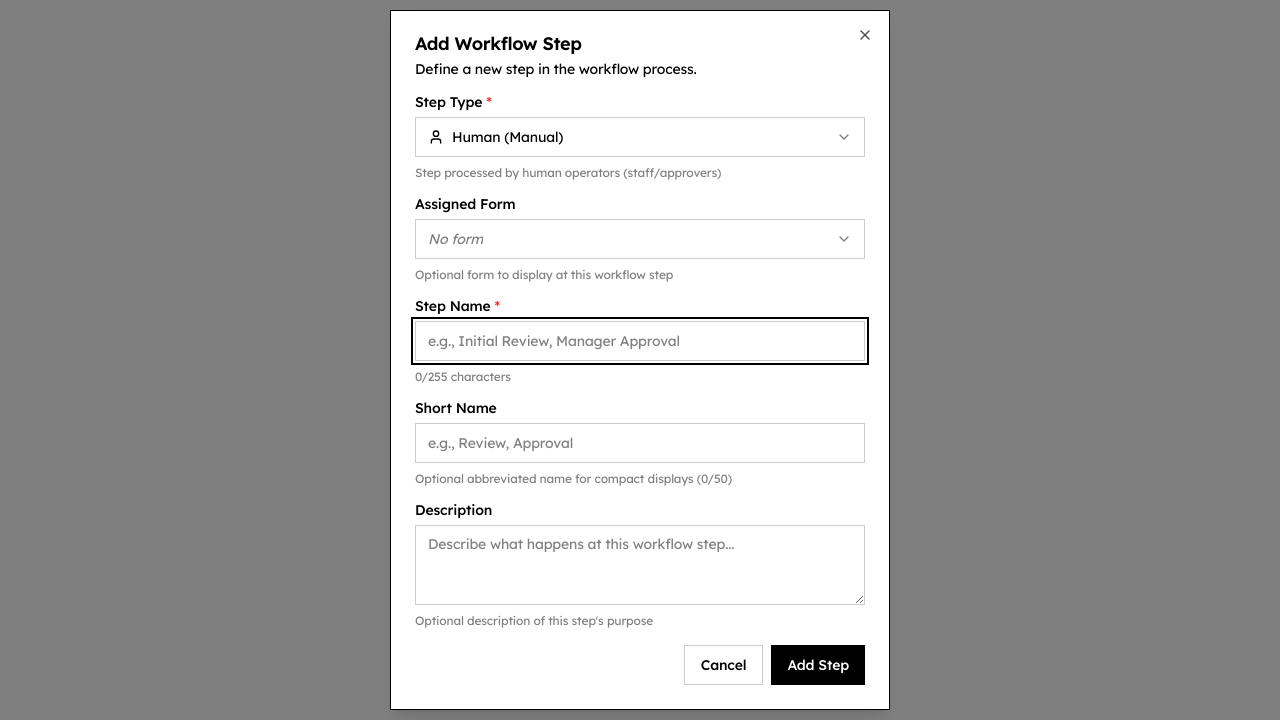
Scenario: CreateRoleDialog › Character Counter › updates character count as user types
Type "My Test Step" into the field labelled "Step Name *" at (640, 341), box x1=415 y1=321 x2=865 y2=361
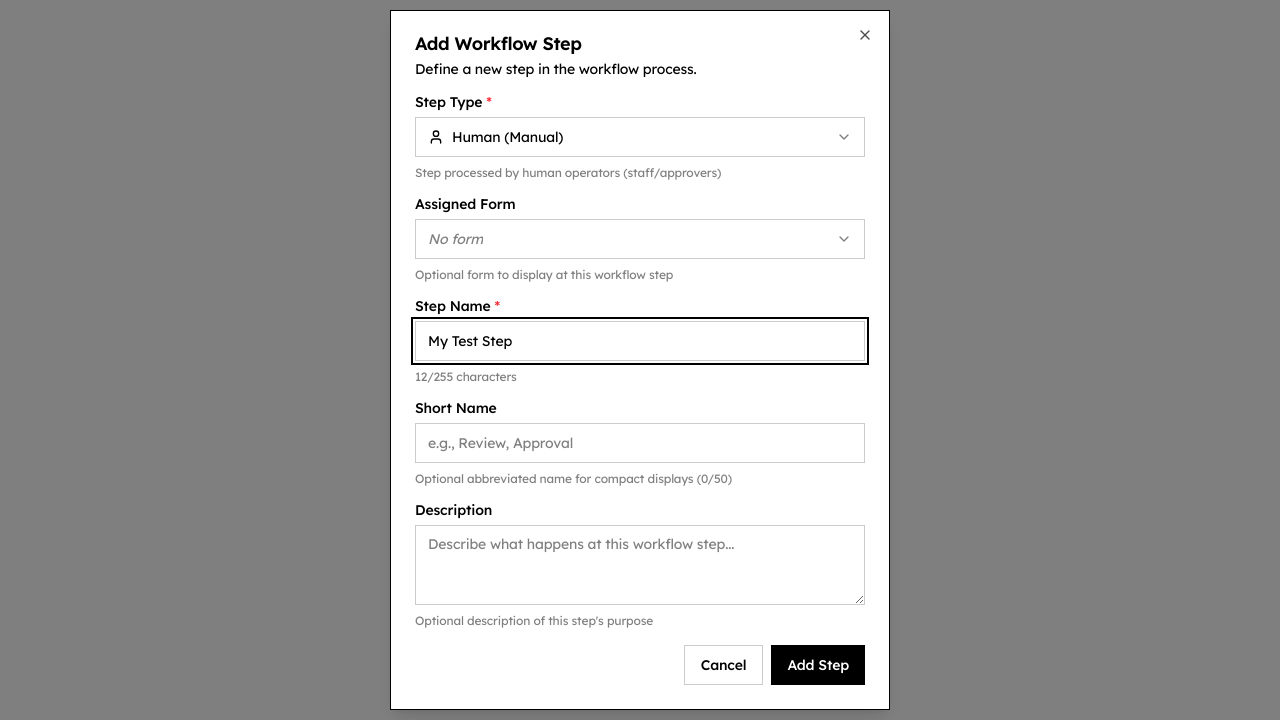
expect the text "12/255 characters" is shown: met, box x1=415 y1=369 x2=517 y2=384
